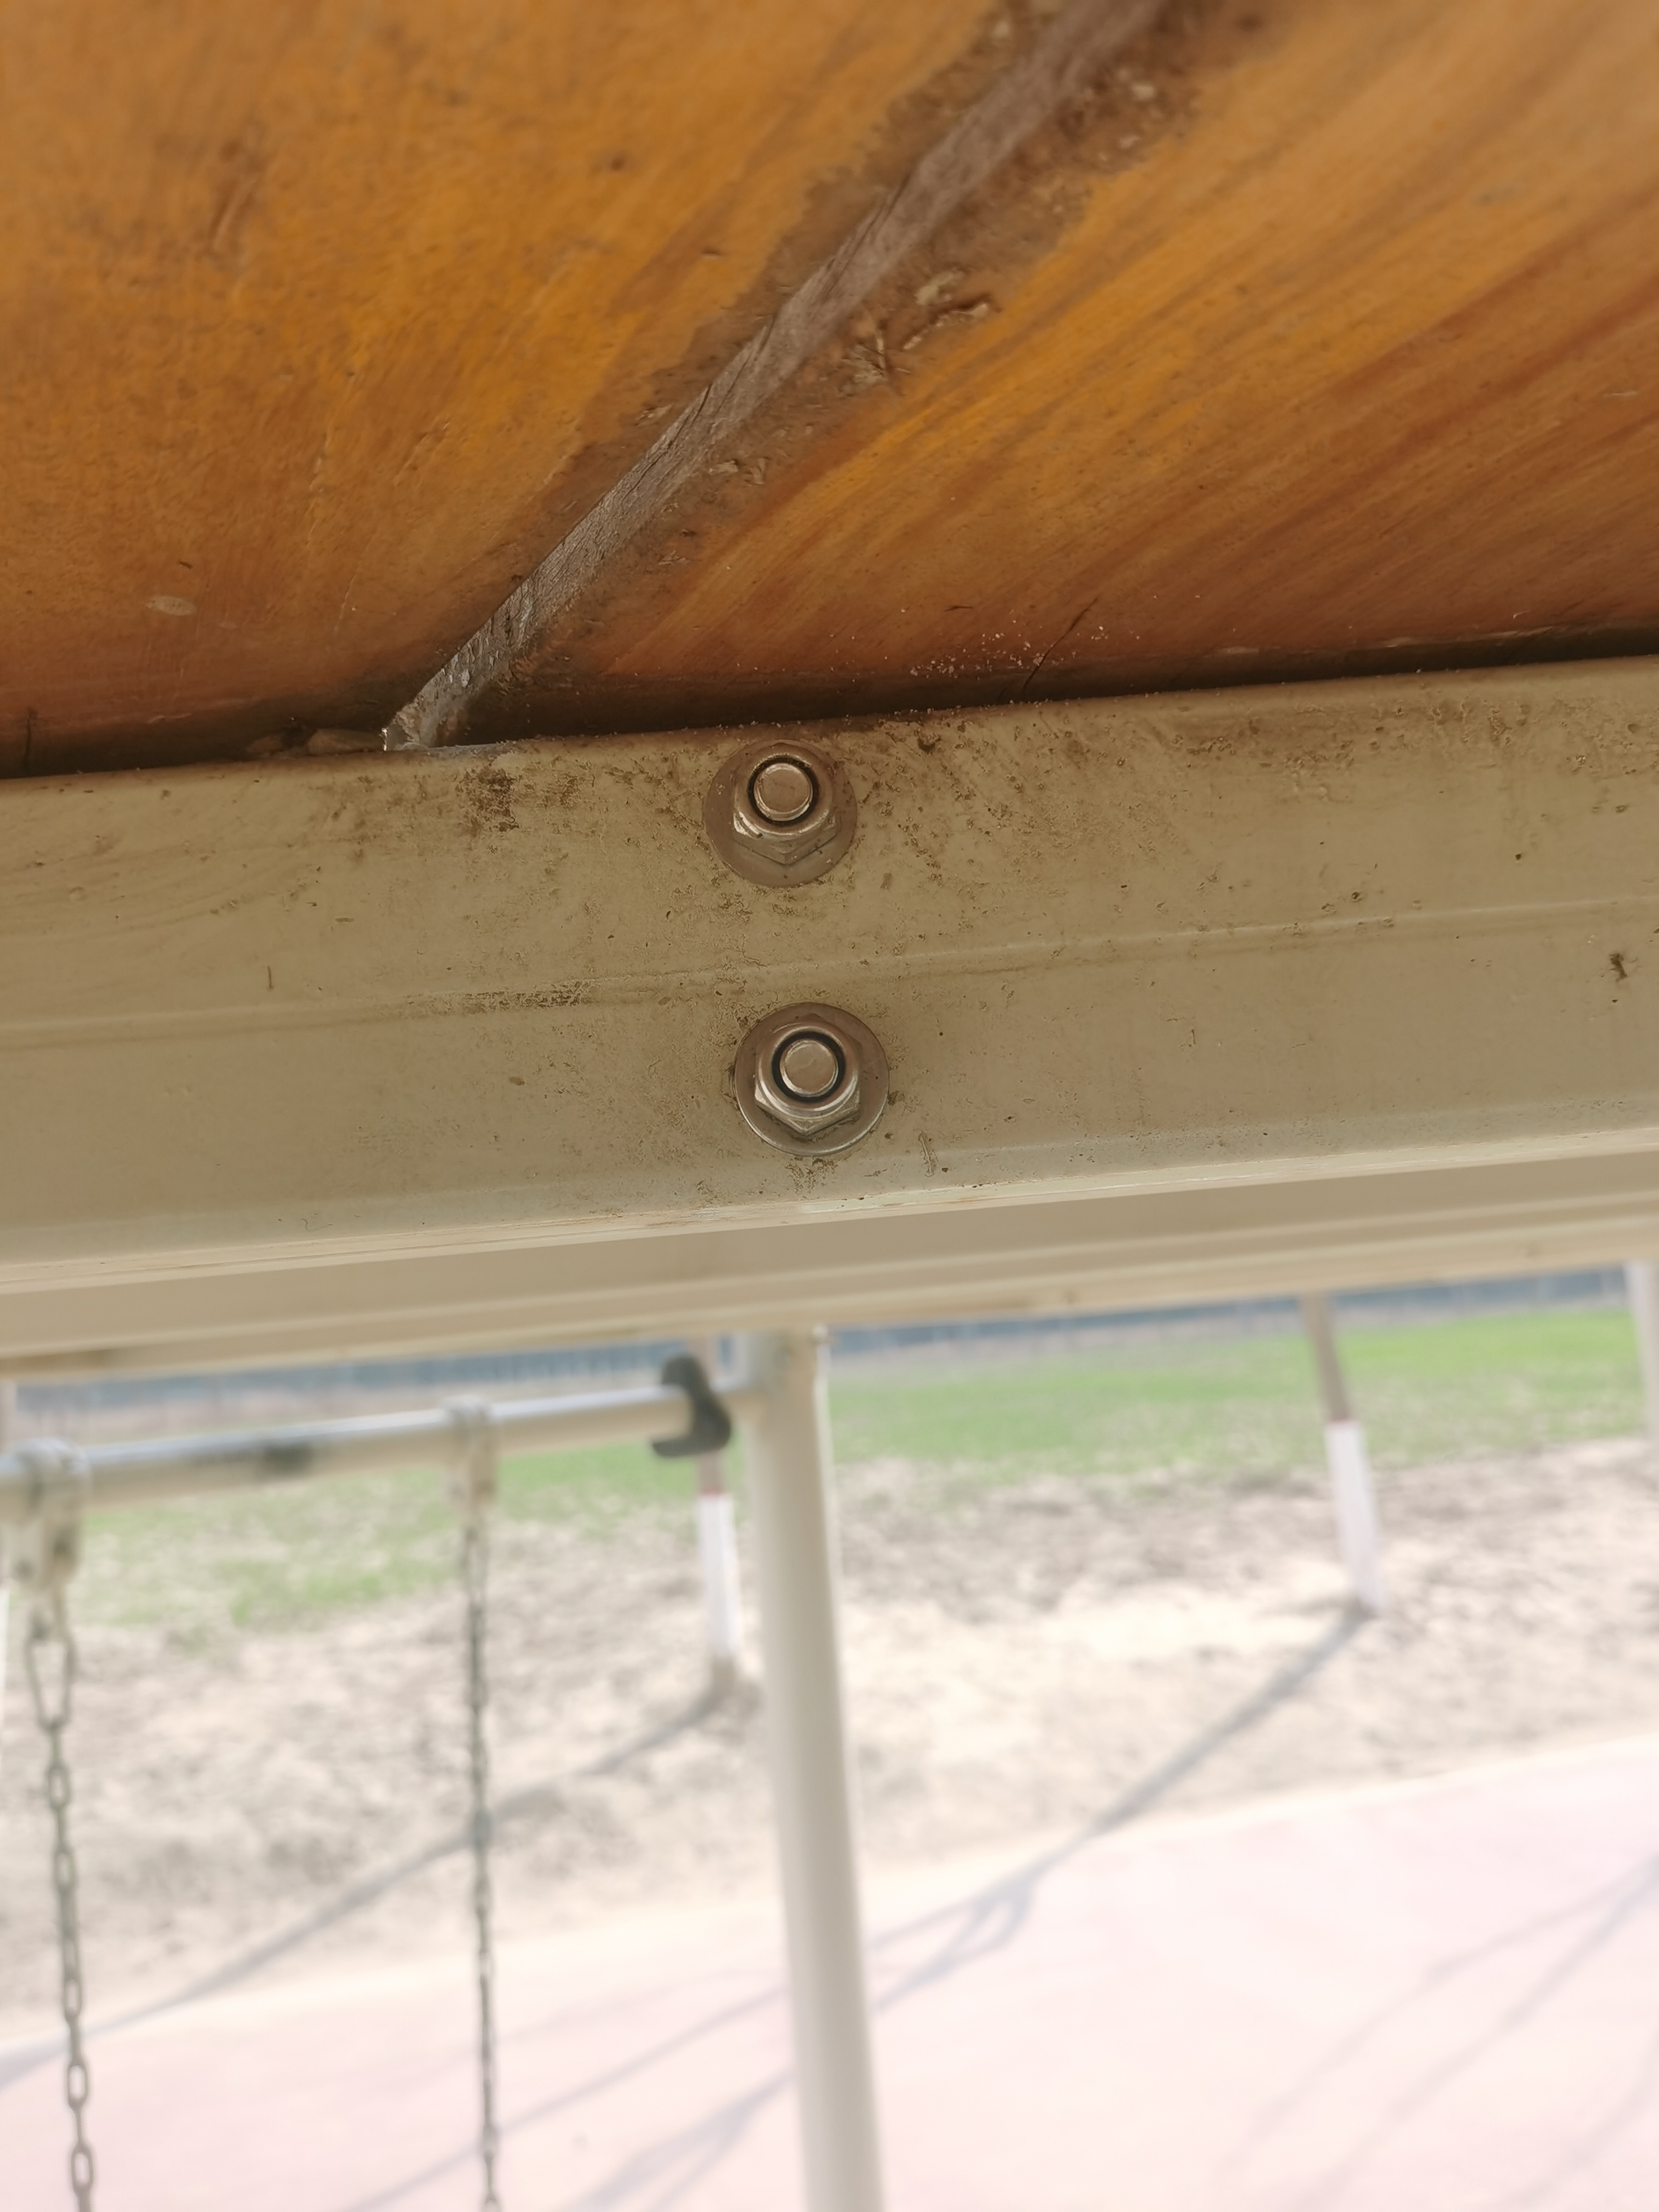bolt_b: (748, 1001, 870, 1148), (720, 735, 847, 871)
